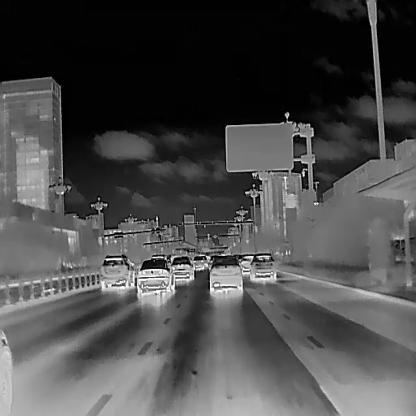car: (136, 257, 174, 295), (100, 254, 135, 292), (210, 257, 243, 295), (249, 252, 276, 282), (170, 255, 194, 282), (239, 253, 255, 274), (192, 255, 207, 270)
